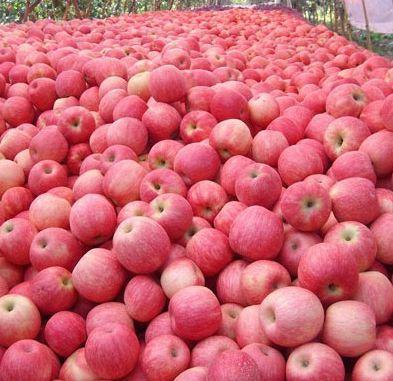apple: (254, 285, 325, 344), (296, 242, 361, 299), (112, 215, 171, 276), (226, 204, 285, 262), (166, 284, 224, 341), (84, 320, 139, 380), (321, 220, 378, 275), (324, 298, 378, 355), (280, 180, 333, 232), (71, 248, 125, 299), (329, 176, 381, 225), (29, 227, 83, 274), (184, 224, 232, 276), (69, 192, 115, 245), (233, 162, 280, 210), (286, 341, 345, 379), (1, 293, 42, 347), (323, 115, 371, 161), (141, 335, 190, 380), (239, 257, 290, 299), (4, 339, 61, 376), (42, 309, 86, 356), (124, 273, 166, 321), (149, 192, 193, 237), (100, 159, 145, 203), (277, 143, 324, 185), (172, 143, 220, 182), (206, 118, 252, 158), (26, 192, 72, 231), (206, 346, 262, 378), (140, 167, 188, 203), (108, 116, 152, 155), (2, 217, 36, 266), (27, 126, 68, 165), (141, 100, 181, 139), (148, 64, 187, 101), (86, 302, 134, 332), (25, 159, 67, 191), (177, 109, 217, 142), (209, 87, 248, 120), (58, 106, 93, 142), (252, 129, 289, 163), (2, 185, 35, 216), (2, 128, 33, 158), (1, 159, 25, 187)
